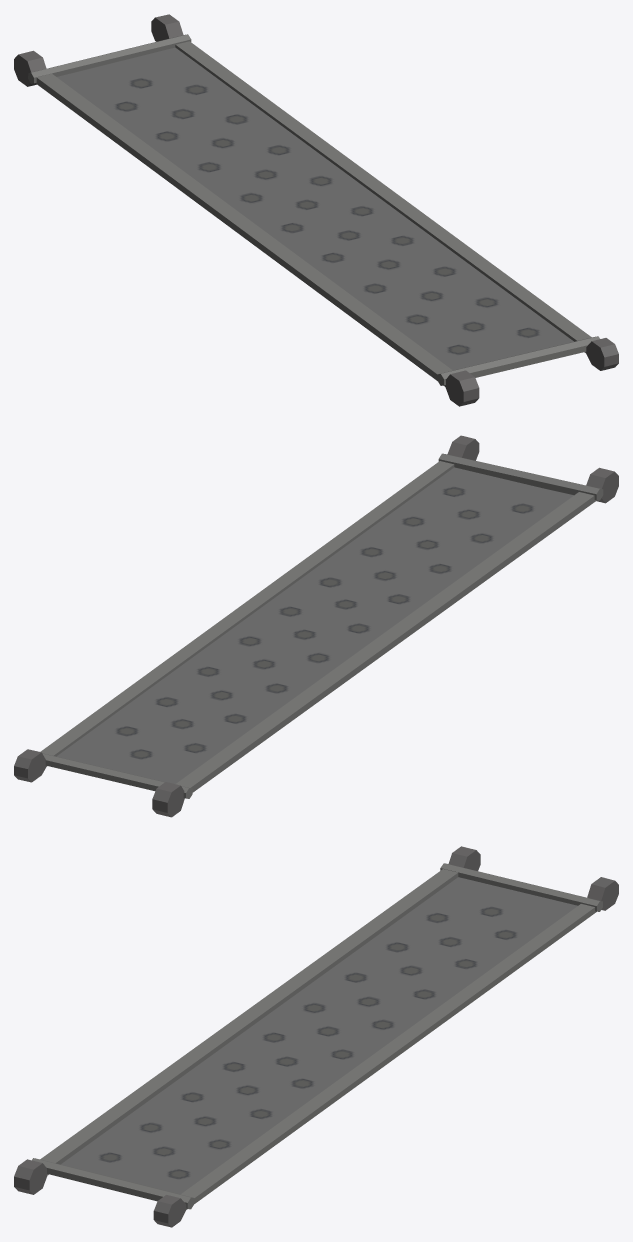
Rendered from SM_Prop_Scaffold_Ramp_01.fbx.
3 views of the same model, one above another, from view 1: azimuth 30°, elevation 25°; view 2: azimuth 150°, elevation 25°; view 3: azimuth 330°, elevation 25° (orthographic).
Visible parts, largest first — view 1: SM_Prop_Scaffold_Ramp_01; view 2: SM_Prop_Scaffold_Ramp_01; view 3: SM_Prop_Scaffold_Ramp_01.
Boxes of the visible parts, x1,y1,x2,y2 form: SM_Prop_Scaffold_Ramp_01: (14, 14, 618, 406); SM_Prop_Scaffold_Ramp_01: (14, 435, 618, 817); SM_Prop_Scaffold_Ramp_01: (14, 846, 618, 1227).
Bounding box in the file's own units: 82.51 × 13.08 × 404.
